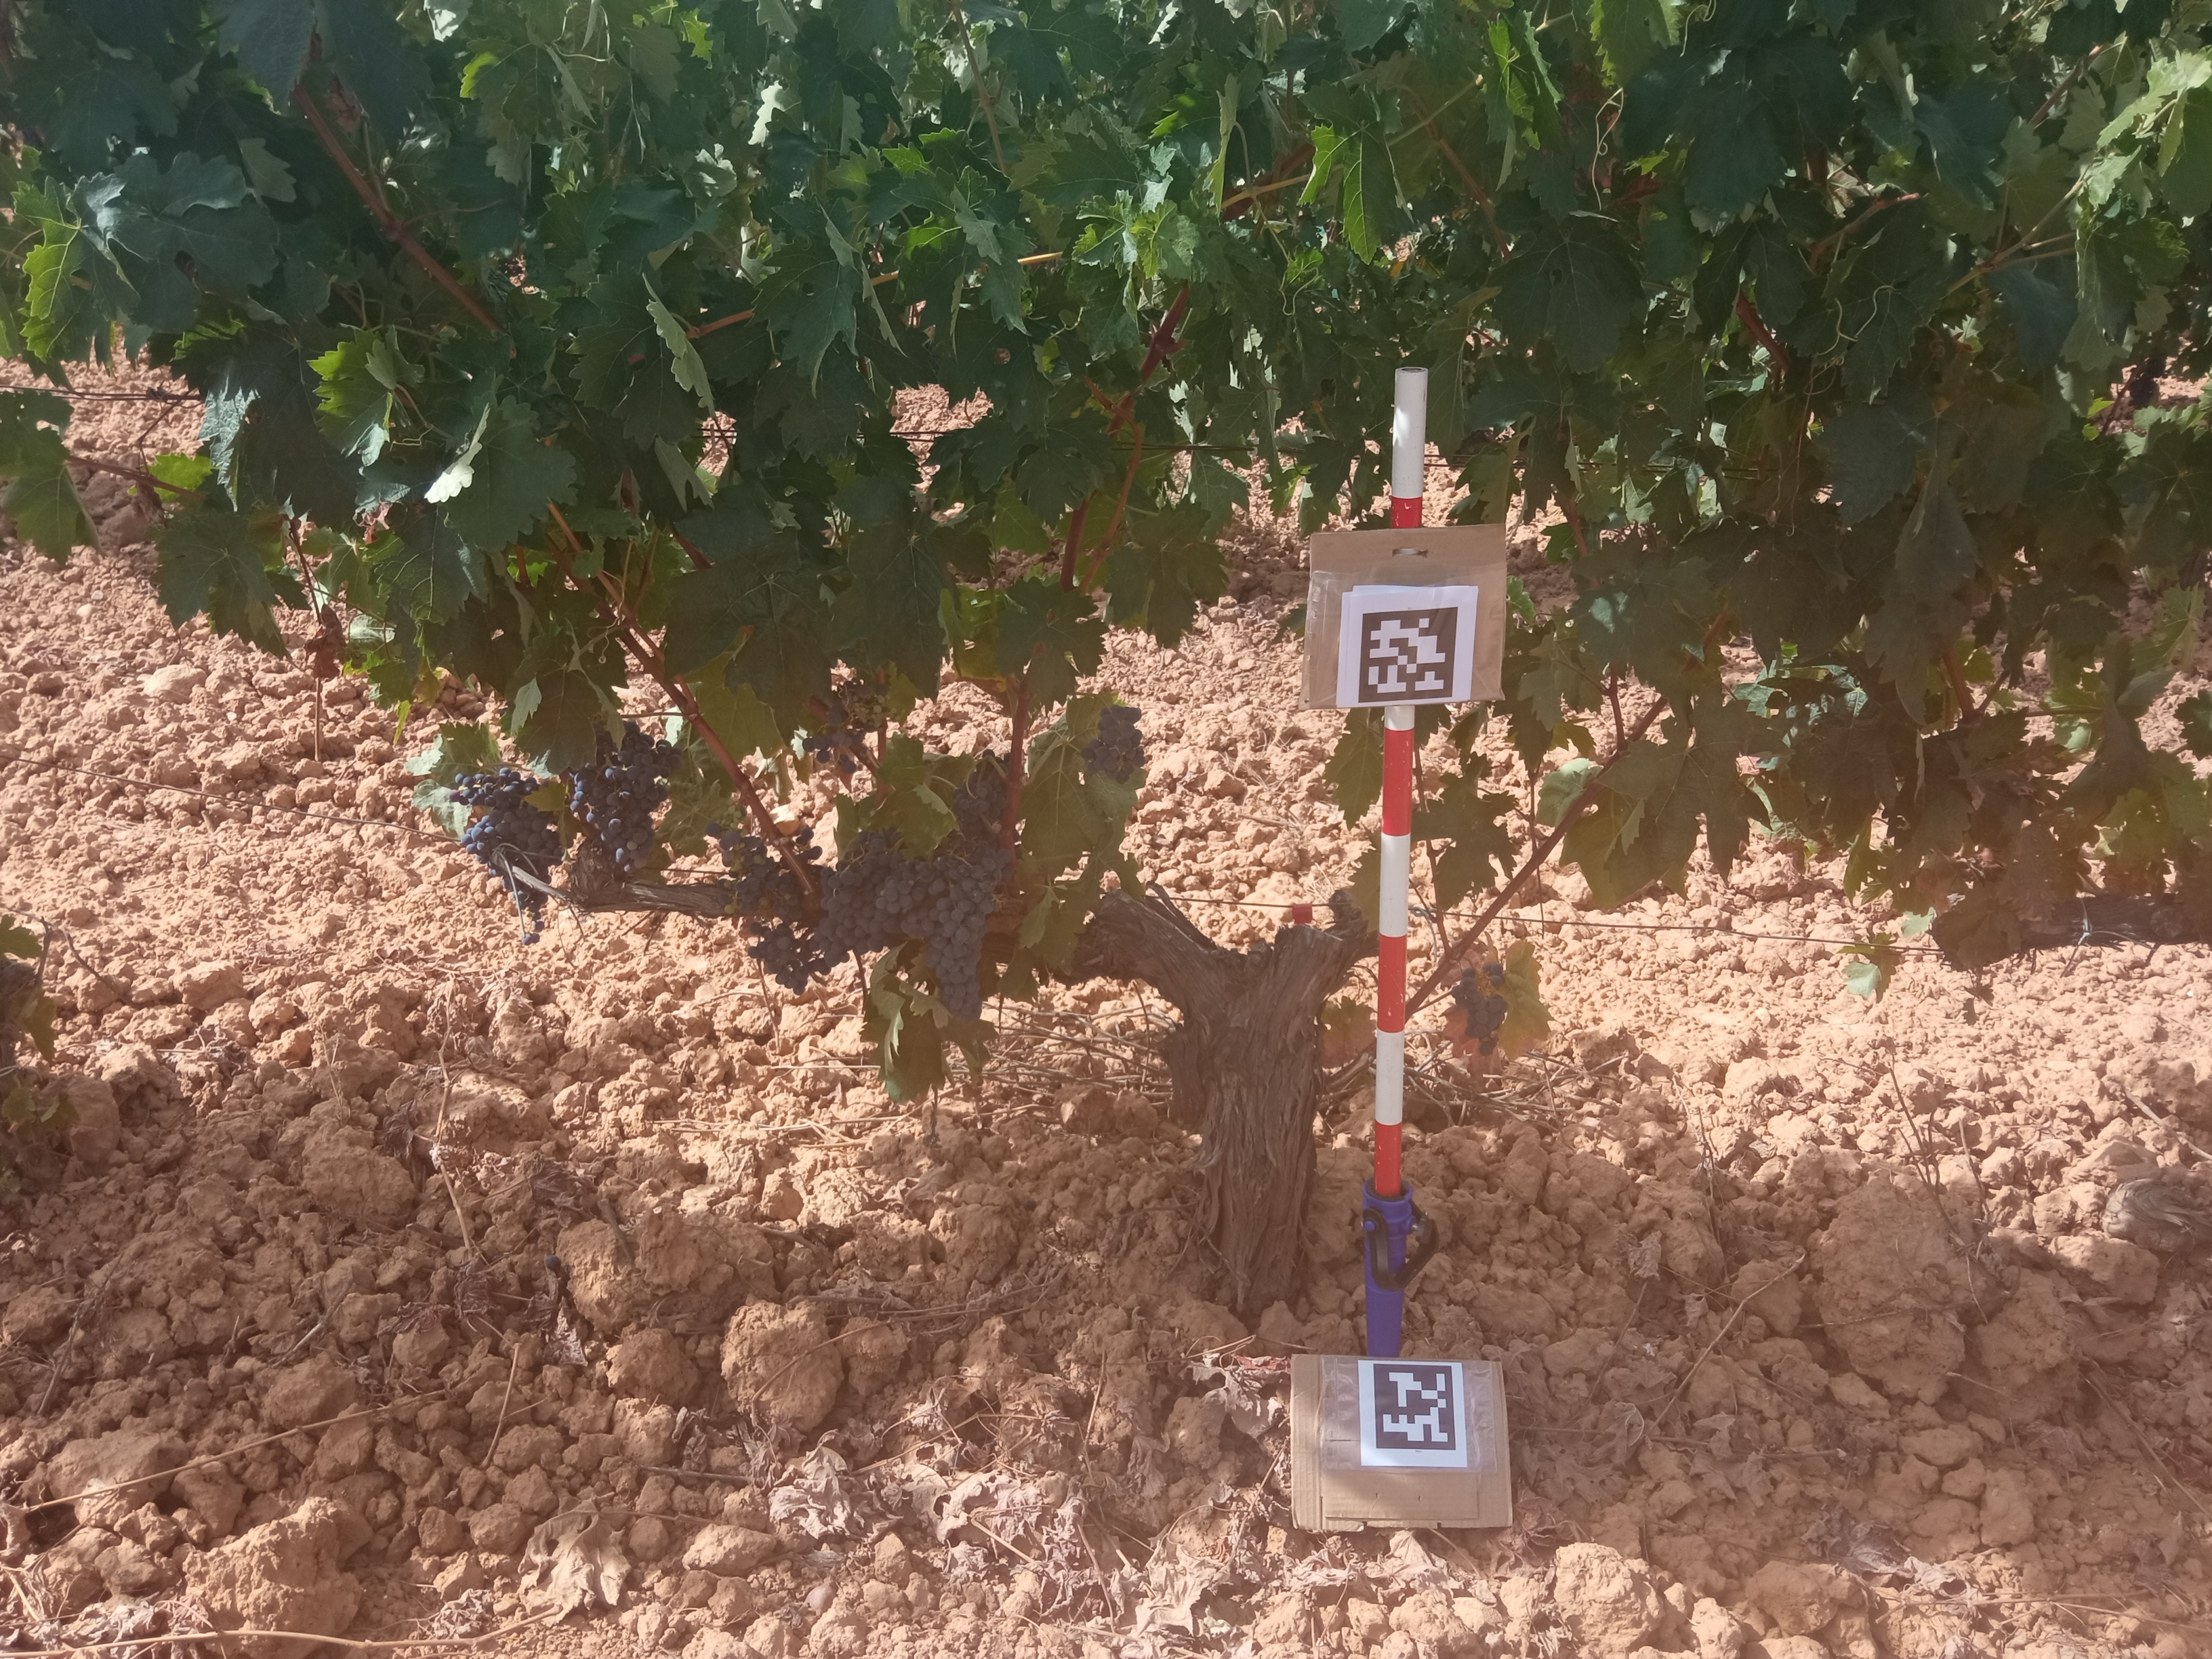grapes: (815, 835, 1010, 1018), (451, 769, 561, 943), (571, 723, 681, 880), (709, 824, 801, 918), (801, 676, 887, 775), (1449, 964, 1515, 1053), (1082, 704, 1150, 782), (744, 920, 813, 992), (954, 751, 1008, 833)
